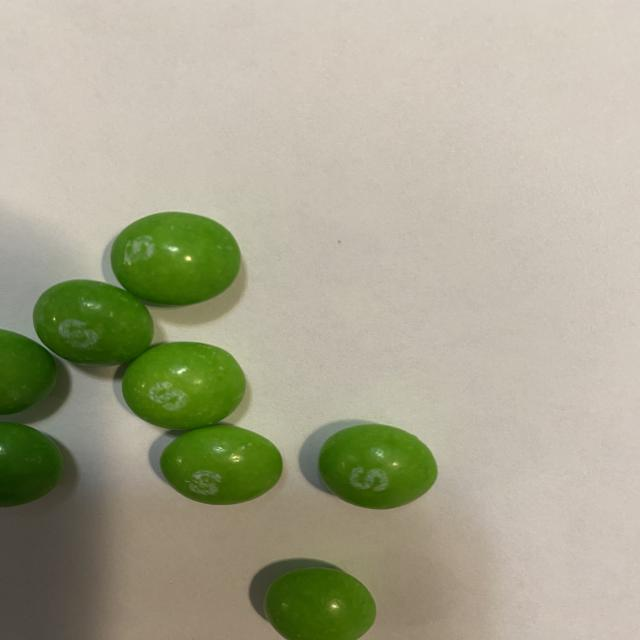smartie: (110, 212, 240, 305), (121, 342, 245, 430), (32, 280, 152, 366), (318, 424, 437, 510), (159, 425, 281, 505), (263, 569, 375, 640), (0, 423, 61, 507), (0, 331, 54, 414)
